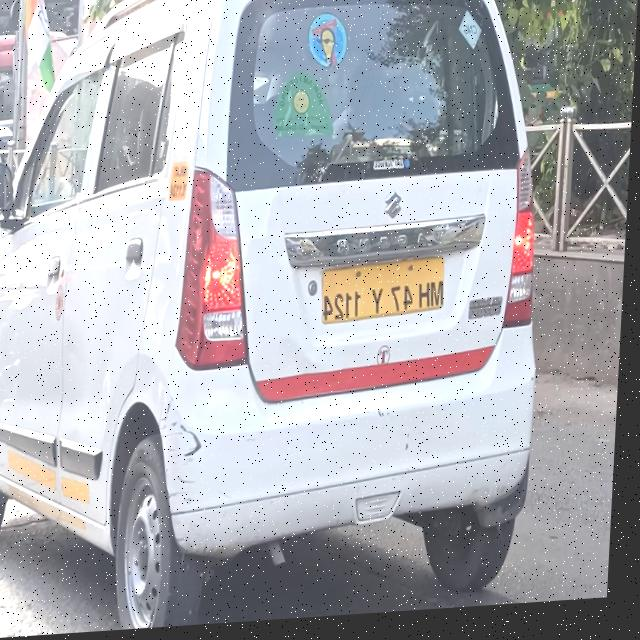plate: (324, 261, 451, 329)
